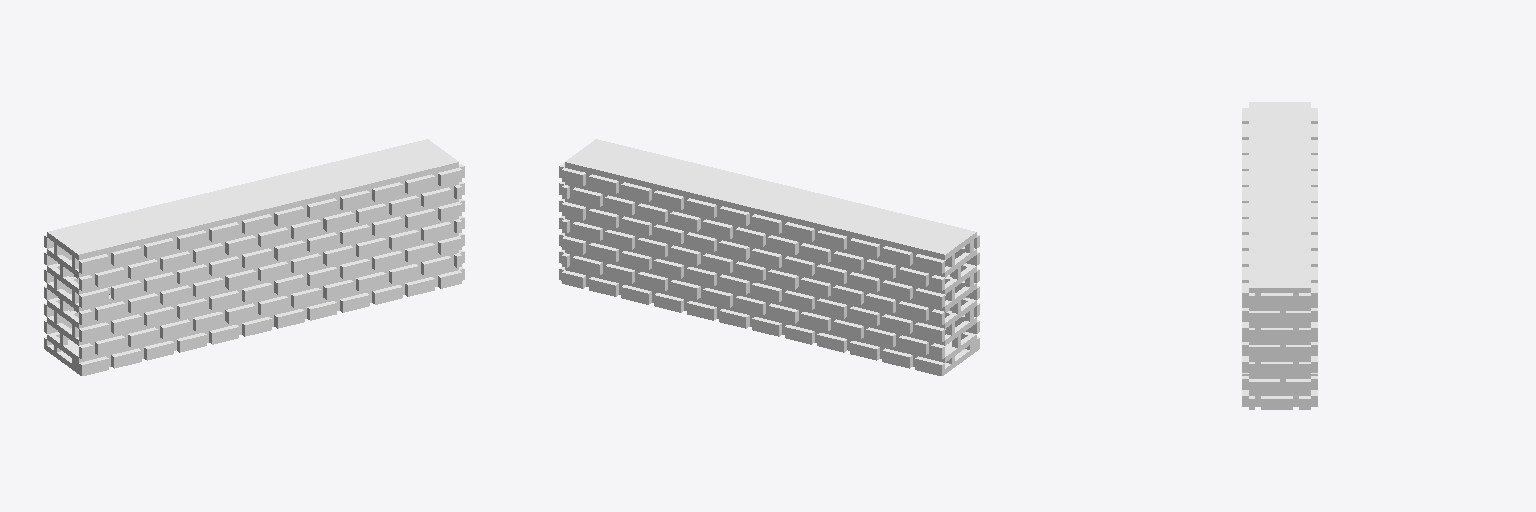
Rendered from one_side_mini_wall_1.0.obj.
3 renders of one model, left to right at view 1: azimuth 30°, elevation 25°; view 2: azimuth 150°, elevation 25°; view 3: azimuth 270°, elevation 25°, orthographic.
Parts seen in each view (by area): view 1: object 1; view 2: object 1; view 3: object 1.
Part boxes in pixels (bbox=[...]): object 1: bbox=[44, 139, 464, 375]; object 1: bbox=[559, 139, 979, 375]; object 1: bbox=[1242, 102, 1317, 409].
Bounding box in the file's own units: 7.1 × 2.1 × 1.2.